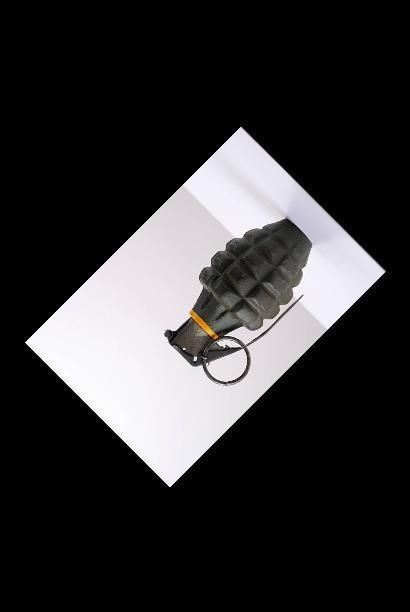Grenade: (162, 218, 311, 385)
